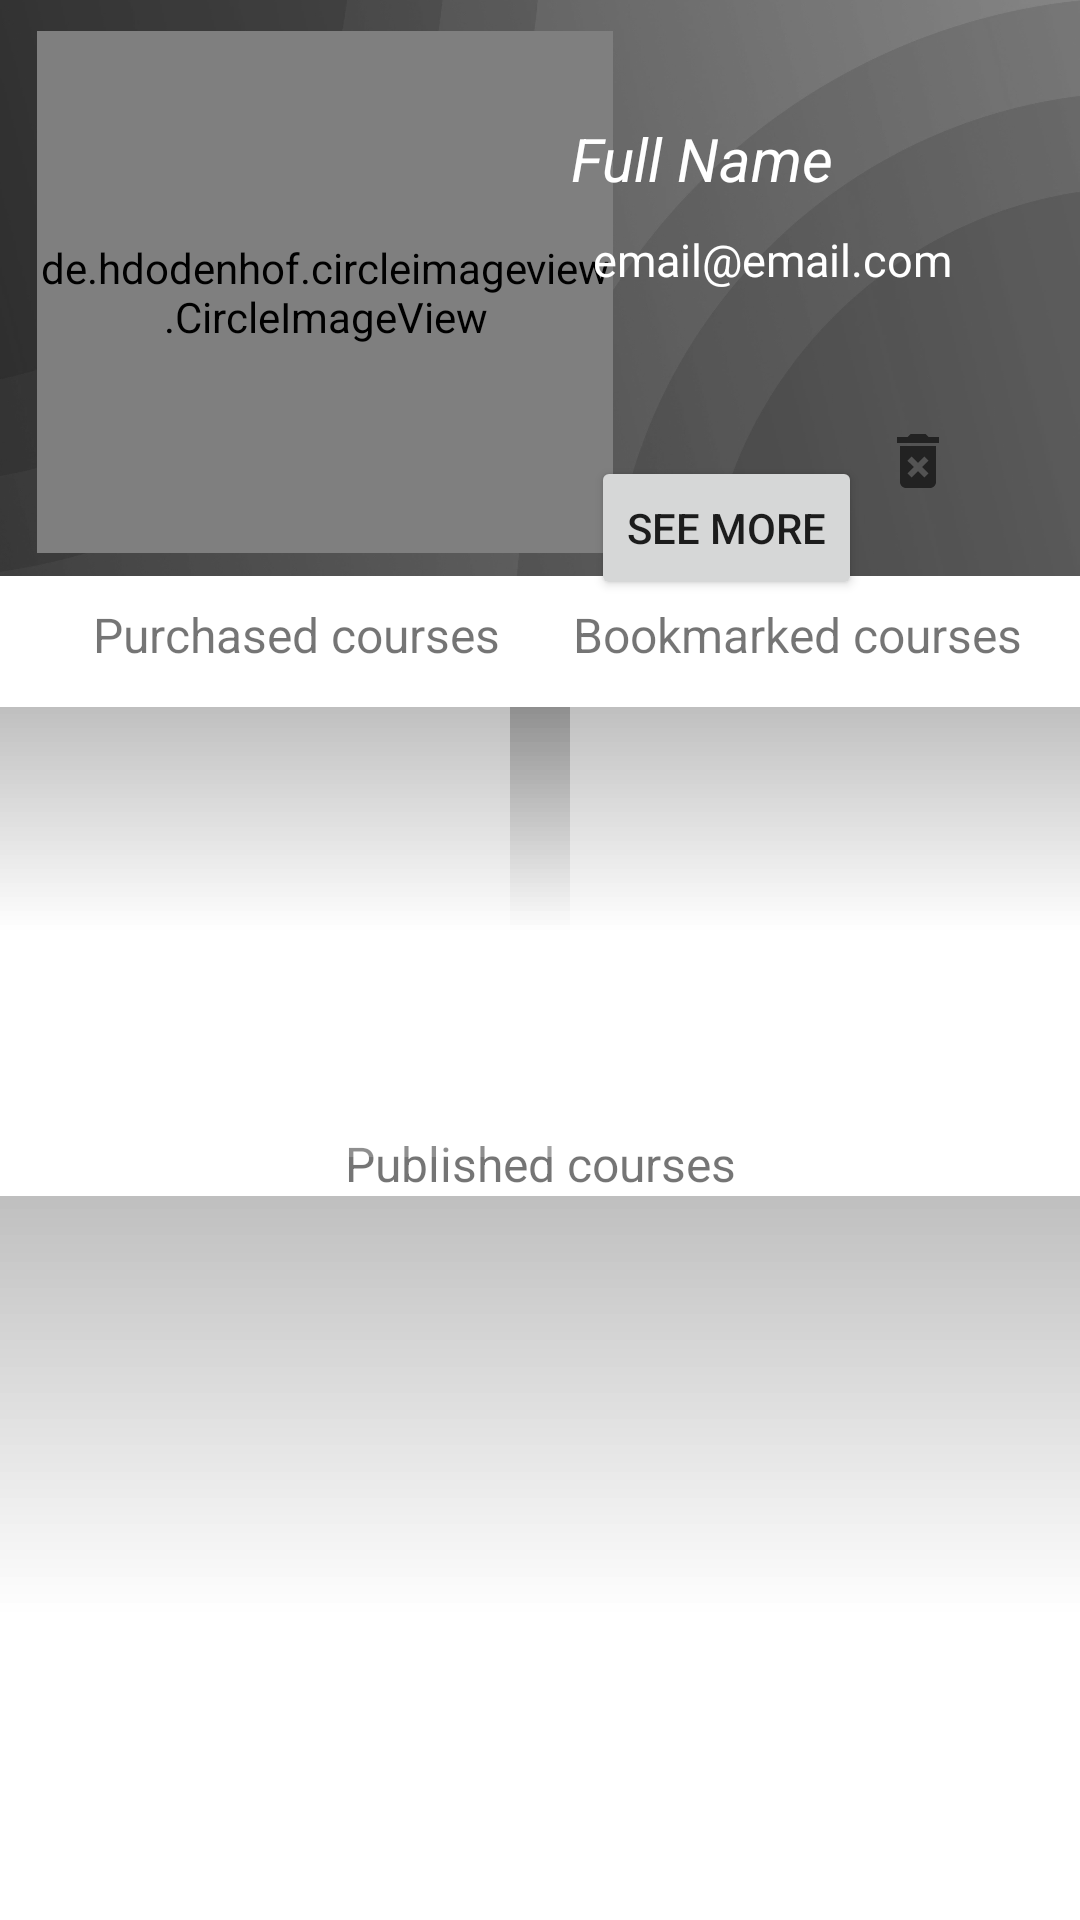

Where icons sit on this 1080w x 1920h app screen, as (x1, y1, x2, y2):
delete forever: (897, 434, 939, 488)
